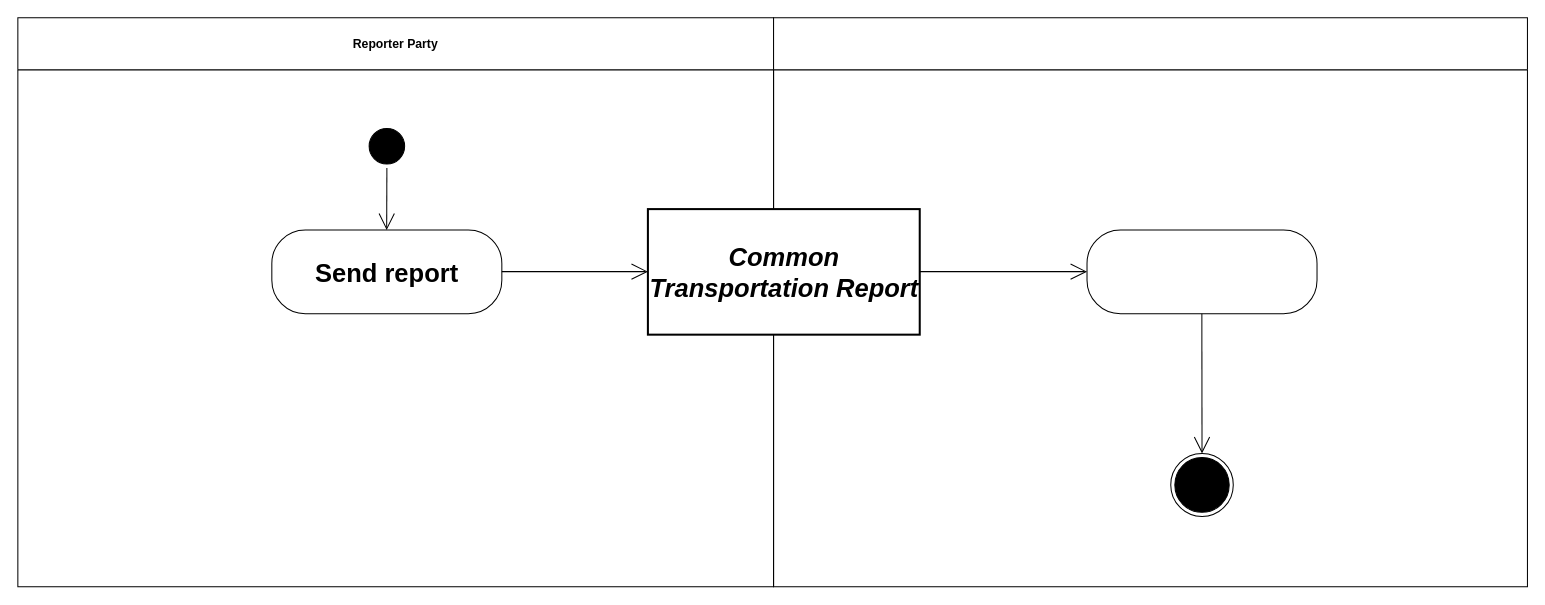
The diagram is 1545 pixels wide and 605 high, and some of its shapes have lost their labels. Here are the shapes that lost their labels. From the top down, the box of each, then its label:
(1086, 229, 1317, 314): Receive Report
(773, 17, 1527, 587): Authority Party
